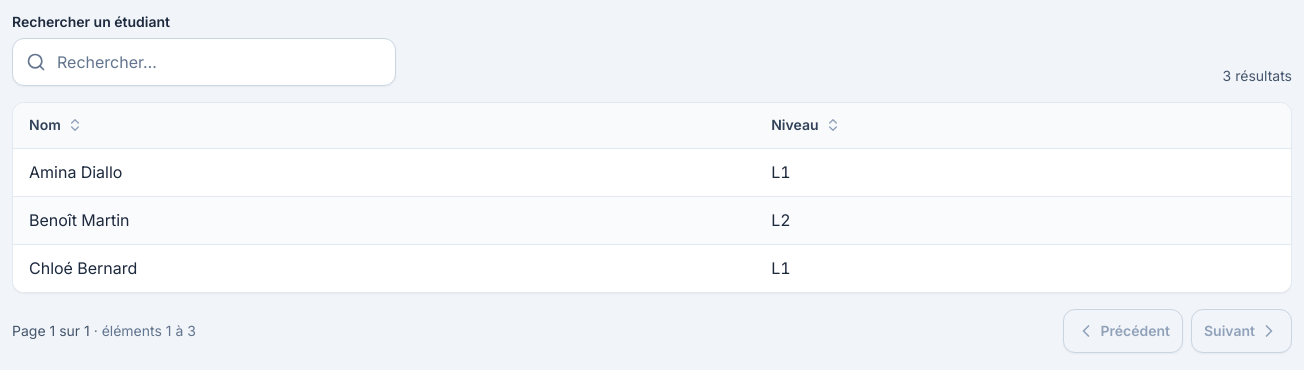
it: DataTable › trie les lignes par colonne au clic sur l’en-tête
This screenshot has width=1304, height=370.
Click the button named "Trier par Nom": (56, 125) [29, 115, 83, 136]
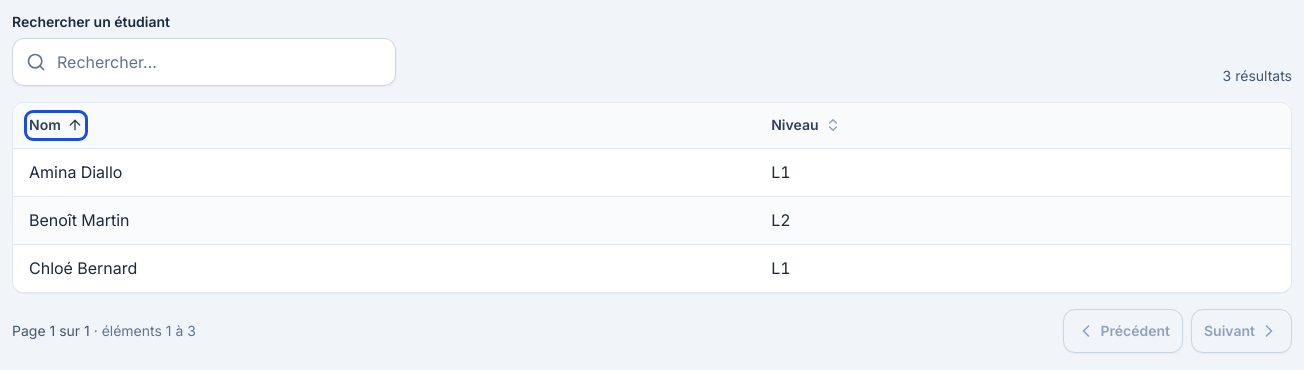
Expected: the text "Amina Diallo" is shown, [13, 149, 755, 196]
Expected: the column heading "Nom" has attribute aria-sort="ascending", [13, 103, 755, 148]
